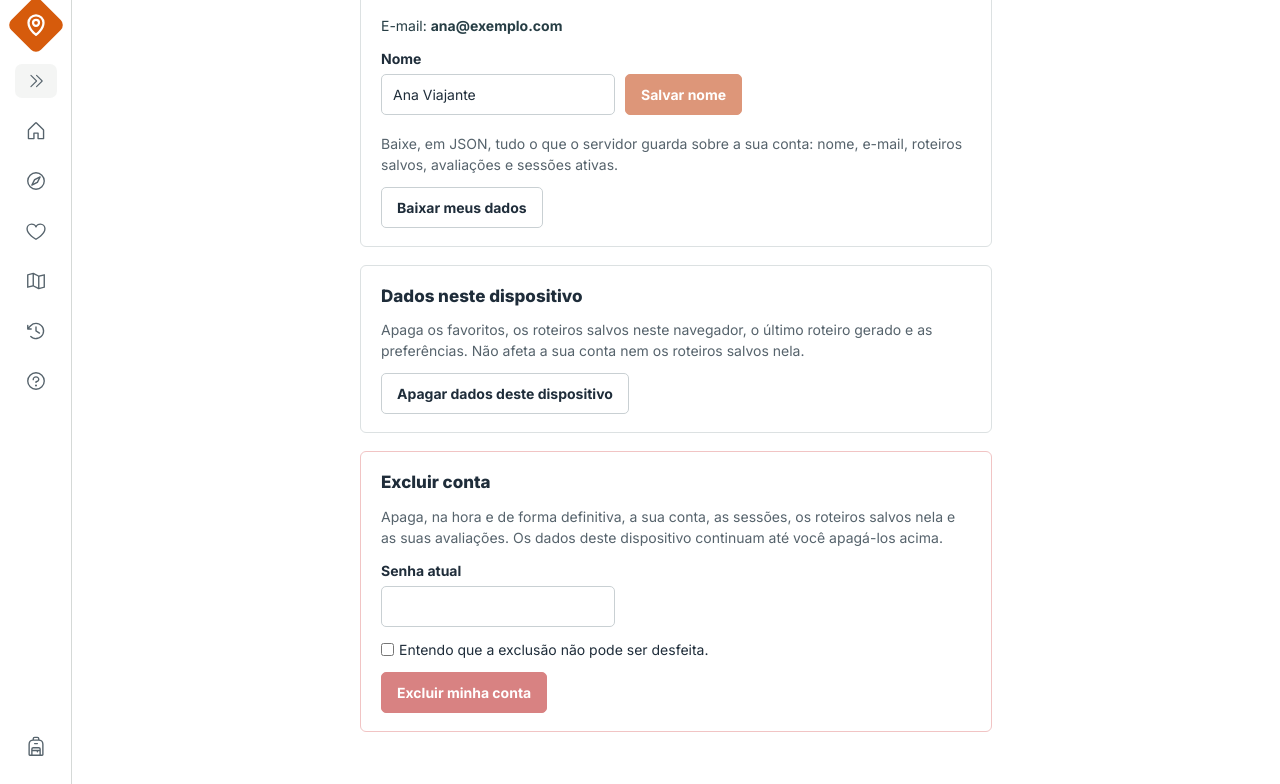
Test: tela Minha conta › só permite excluir com a senha e a confirmação, e mostra a senha incorreta
(page scrolled)
expect the button "Excluir minha conta" is disabled: met, box [381, 672, 547, 712]
Type "errada" into the password field labelled "Senha atual" at [498, 606], box [381, 586, 615, 626]
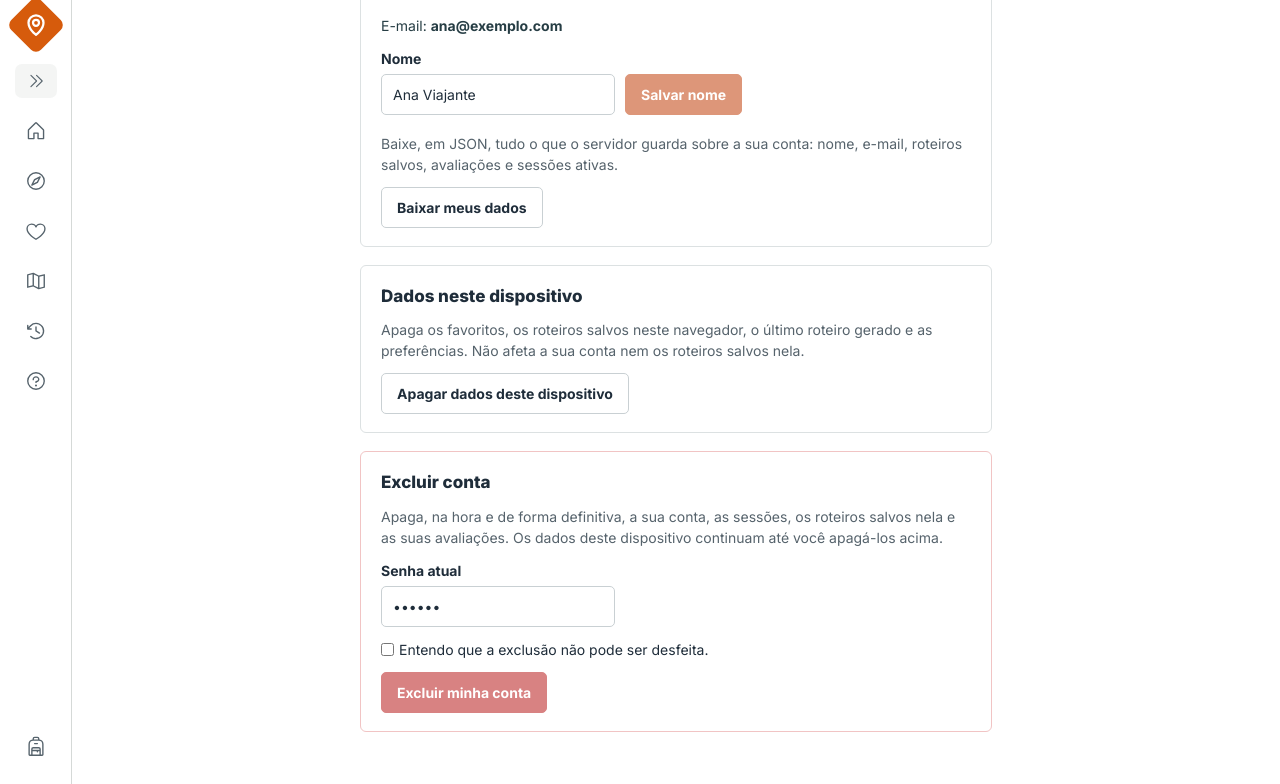
expect the button "Excluir minha conta" is disabled: met, box [381, 672, 547, 712]
Click the checkbox labelled "Entendo que a exclusão não pode ser desfeita." at [388, 649], box [381, 642, 394, 656]
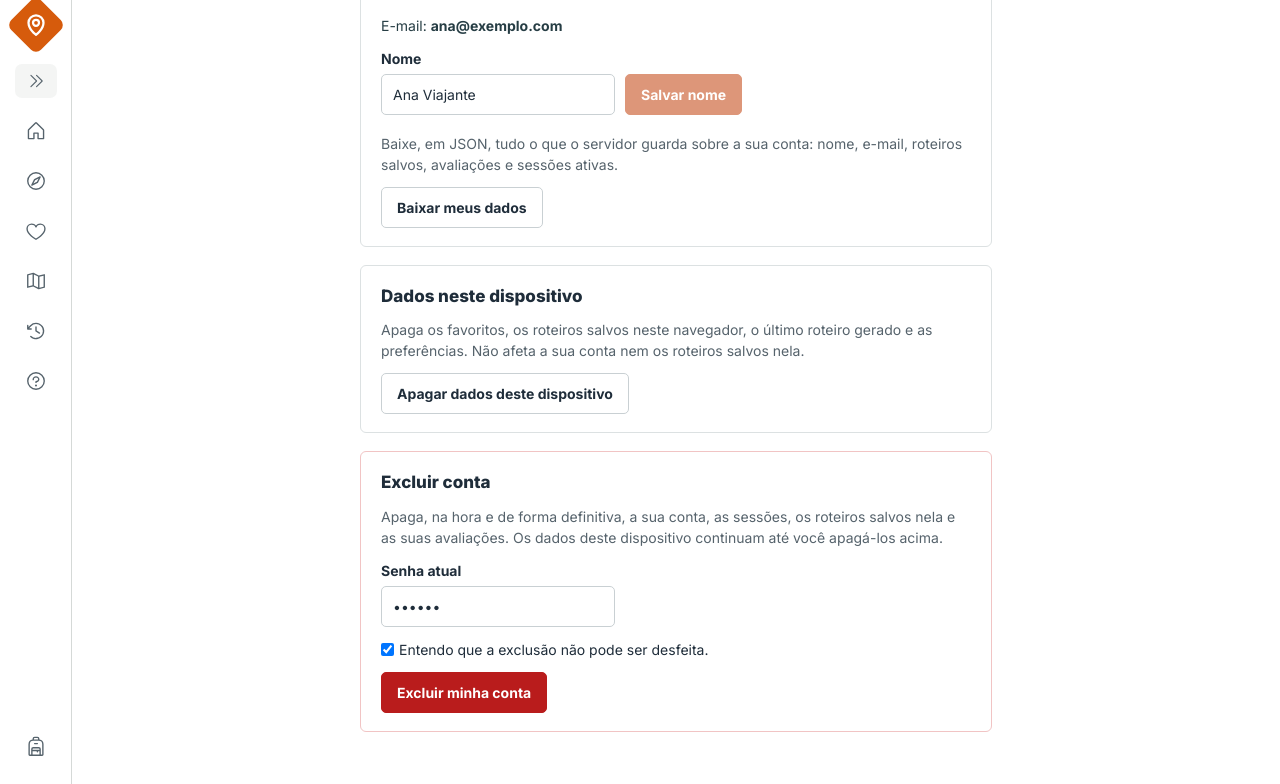
Click the button "Excluir minha conta" at [464, 692], box [381, 672, 547, 712]
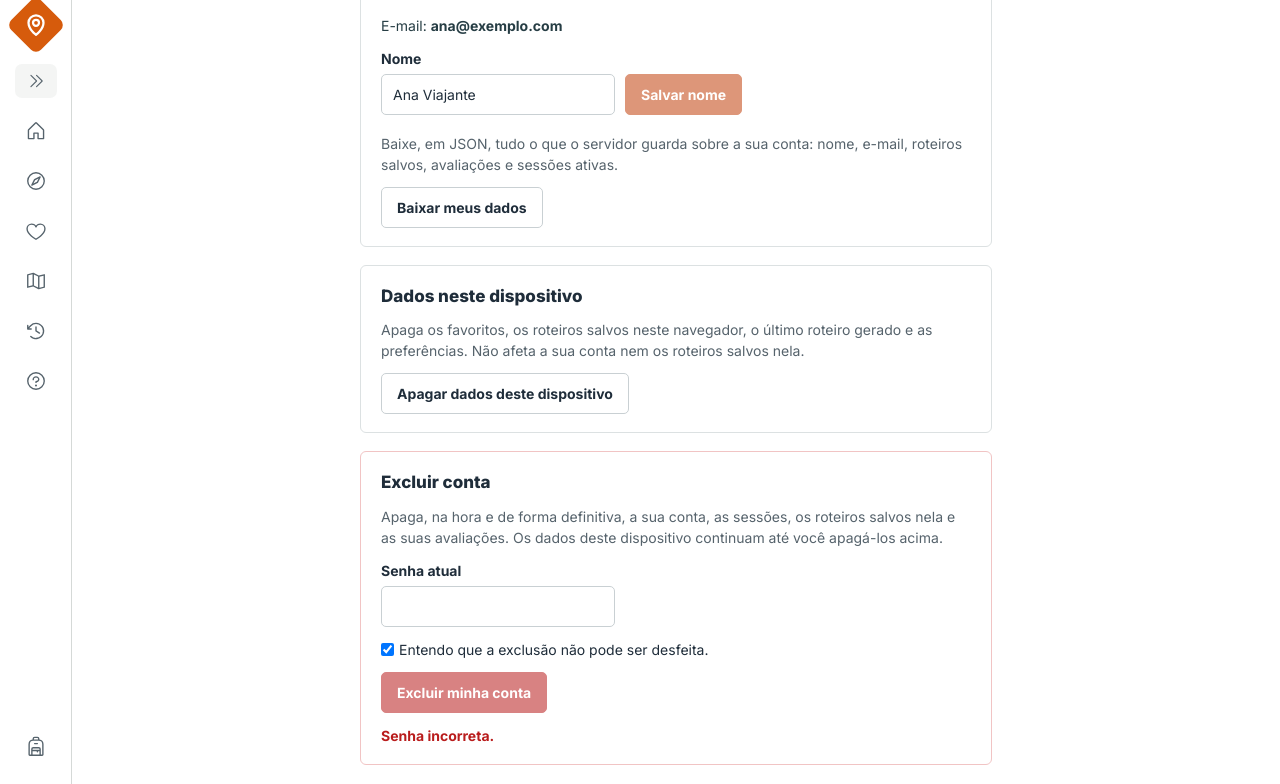
expect the message reads "Senha incorreta.": met, box [381, 726, 494, 744]
expect the password field labelled "Senha atual" is empty: met, box [381, 586, 615, 626]
